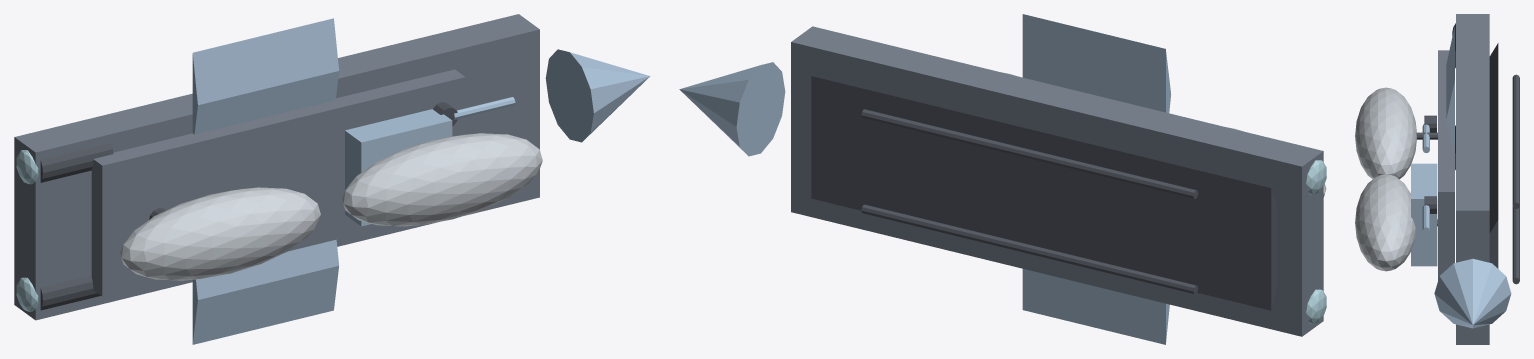
Rendered from SWS-004_cloudhook_cutter.glb.
3 views of the same model, side by side, from view 1: azimuth 30°, elevation 25°; view 2: azimuth 150°, elevation 25°; view 3: azimuth 270°, elevation 25° (orthographic). The views are drawn at different scales.
Visible parts, largest first — view 1: main_hull, upper_deck, aether_lift_bladder_2, aether_lift_bladder_1, wing_1, wing_-1, aether_nose, bridge, engine_pod_1, engine_pod_-1, turret_barrel_2, engine_glow_-1 (+1 smaller); view 2: keel, main_hull, wing_1, wing_-1, aether_nose, landing_skid_1, landing_skid_-1, engine_glow_1, engine_glow_-1; view 3: main_hull, aether_lift_bladder_2, aether_lift_bladder_1, aether_nose, upper_deck, bridge, keel, landing_skid_1, wing_1, landing_skid_-1, turret_barrel_2, turret_barrel_1 (+2 smaller).
Part boxes in pixels (x1,y1,x2,y2): main_hull: (14,14,539,320); upper_deck: (91,69,465,296); aether_lift_bladder_2: (342,133,542,226); aether_lift_bladder_1: (120,187,320,280); wing_1: (192,18,339,134); wing_-1: (192,239,339,344); aether_nose: (545,49,650,142); bridge: (345,109,452,226); engine_pod_1: (40,143,113,182); engine_pod_-1: (40,275,100,310); turret_barrel_2: (454,97,515,119); engine_glow_-1: (16,277,38,311); keel: (811,76,1276,310); main_hull: (791,26,1323,336); wing_1: (1022,14,1171,113); wing_-1: (1022,269,1169,344); aether_nose: (679,62,785,156); landing_skid_1: (861,109,1198,198); landing_skid_-1: (861,204,1198,293); engine_glow_1: (1306,160,1326,194); engine_glow_-1: (1306,289,1326,324); main_hull: (1456,14,1489,344); aether_lift_bladder_2: (1355,174,1415,271); aether_lift_bladder_1: (1355,87,1416,179); aether_nose: (1434,258,1511,328); upper_deck: (1438,50,1454,280); bridge: (1411,163,1437,266); keel: (1489,43,1498,268); landing_skid_1: (1512,74,1519,208); wing_1: (1446,26,1454,144); landing_skid_-1: (1512,206,1519,284); turret_barrel_2: (1422,204,1429,233); turret_barrel_1: (1422,124,1429,153).
Bounding box in the file's own units: 27.6 × 12.18 × 7.79.
